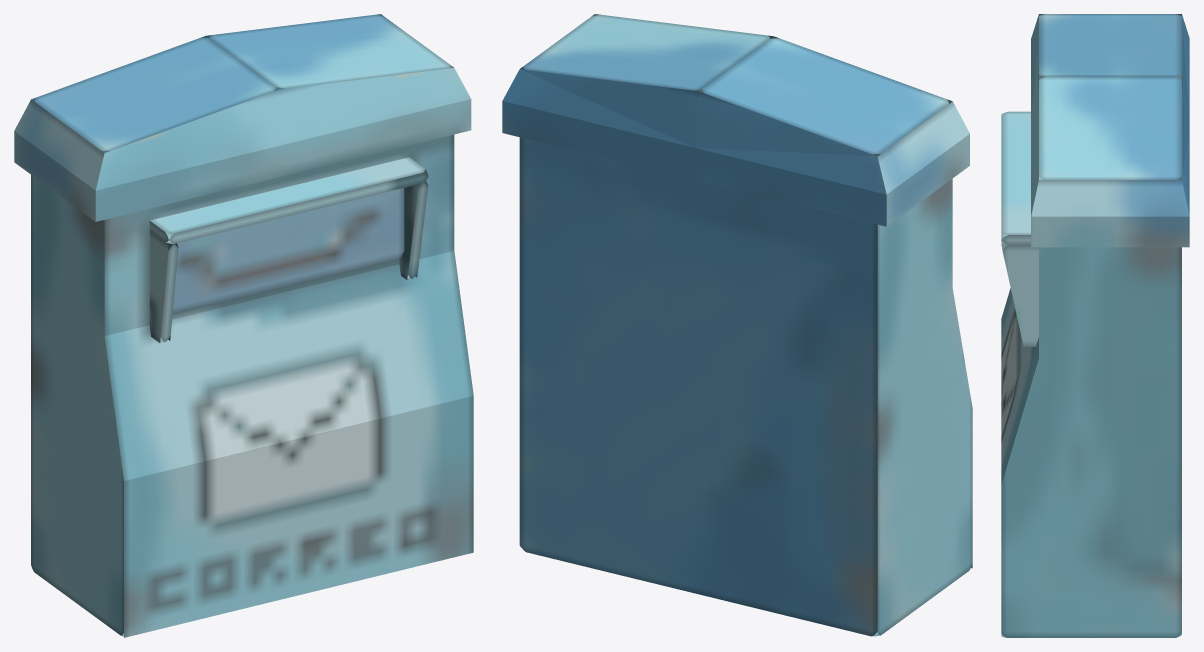
File: buzon_modelo.fbx
3 views of the same model, side by side, from view 1: azimuth 30°, elevation 25°; view 2: azimuth 150°, elevation 25°; view 3: azimuth 270°, elevation 25° (orthographic). The views are drawn at different scales.
Visible parts, largest first — view 1: correo; view 2: correo; view 3: correo.
Part boxes in pixels (x1,y1,x2,y2): correo: (14,14,473,637); correo: (502,14,972,636); correo: (1001,14,1189,637).
Bounding box in the file's own units: 46.96 × 58.75 × 20.98.
